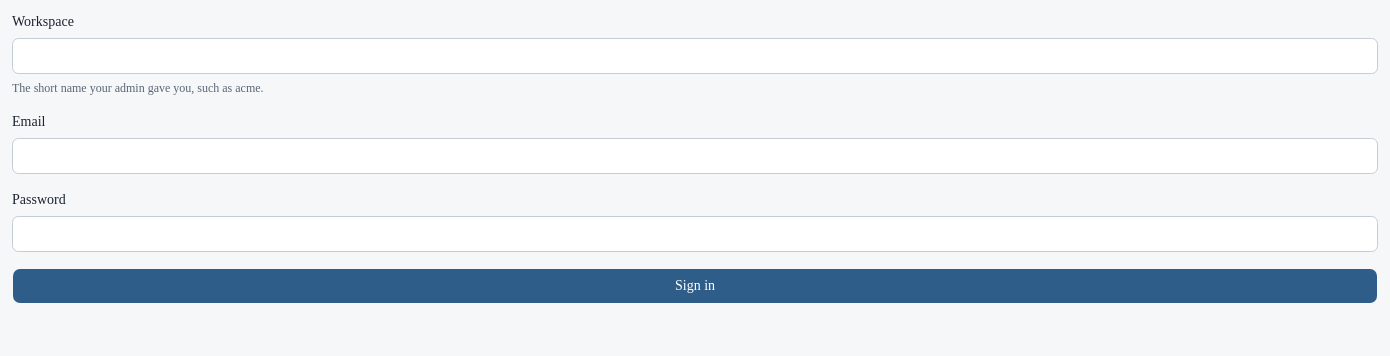
LoginForm › explains a failed sign-in without saying which part was wrong
In the field labelled "Workspace": (695, 56) x1=12 y1=38 x2=1378 y2=74, type "acme"
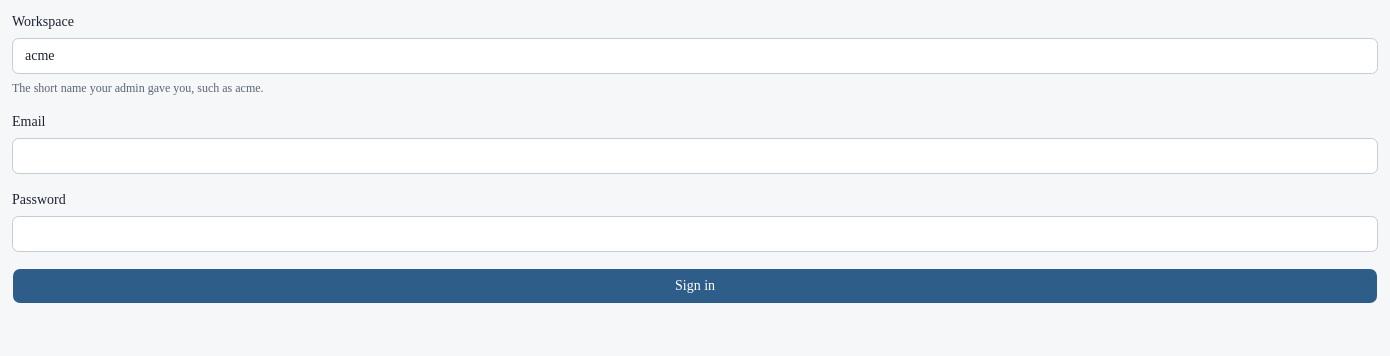
In the field labelled "Email": (695, 156) x1=12 y1=138 x2=1378 y2=174, type "mia@acme.test"
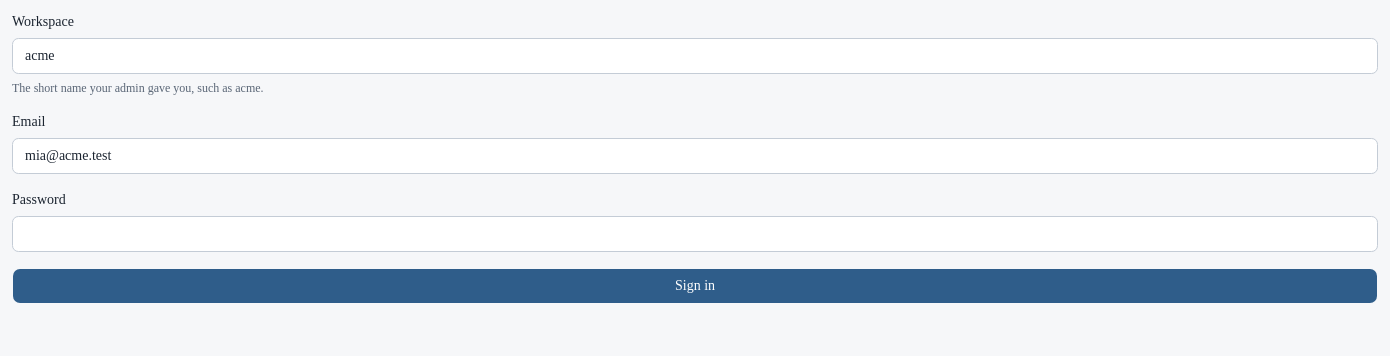
In the password field labelled "Password": (695, 234) x1=12 y1=216 x2=1378 y2=252, type "correct-horse"
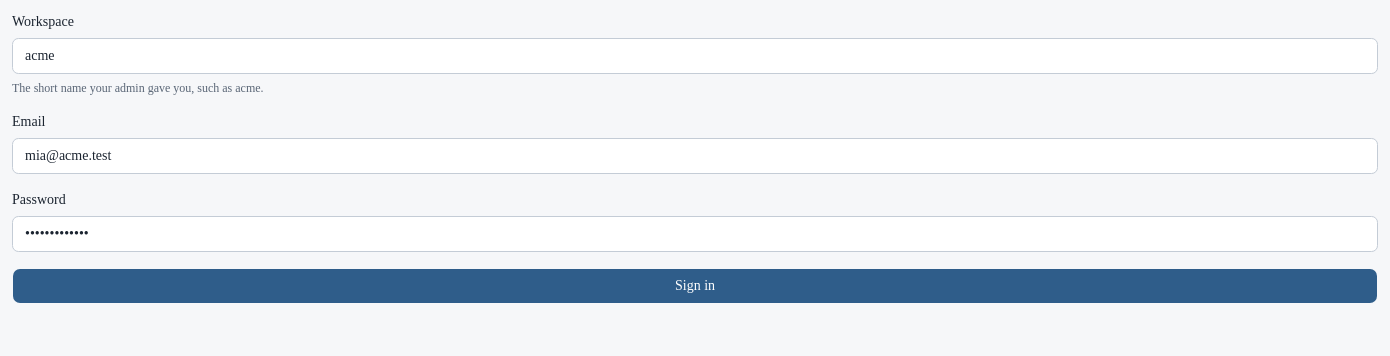
Click the button "Sign in": (695, 286) x1=12 y1=268 x2=1378 y2=304
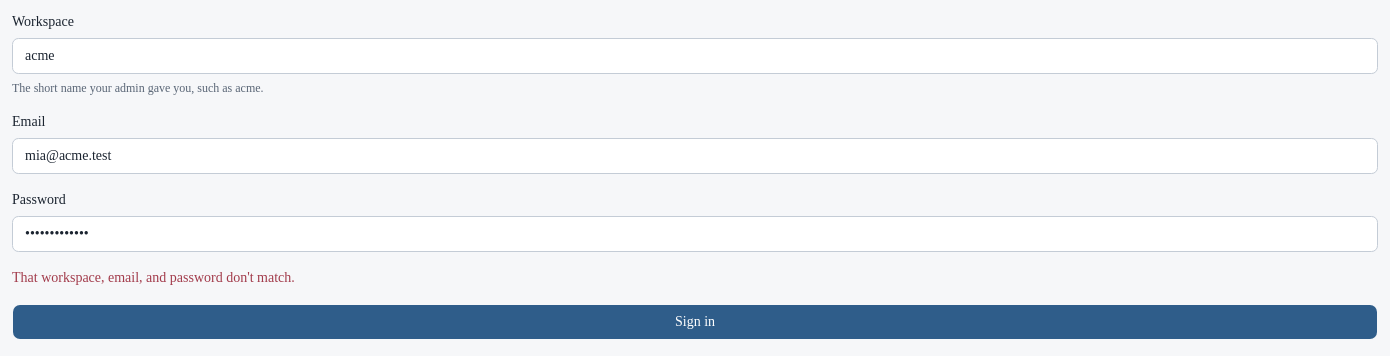
Expected: the message reads "That workspace, email, and password don't match.", x1=12 y1=270 x2=295 y2=285
